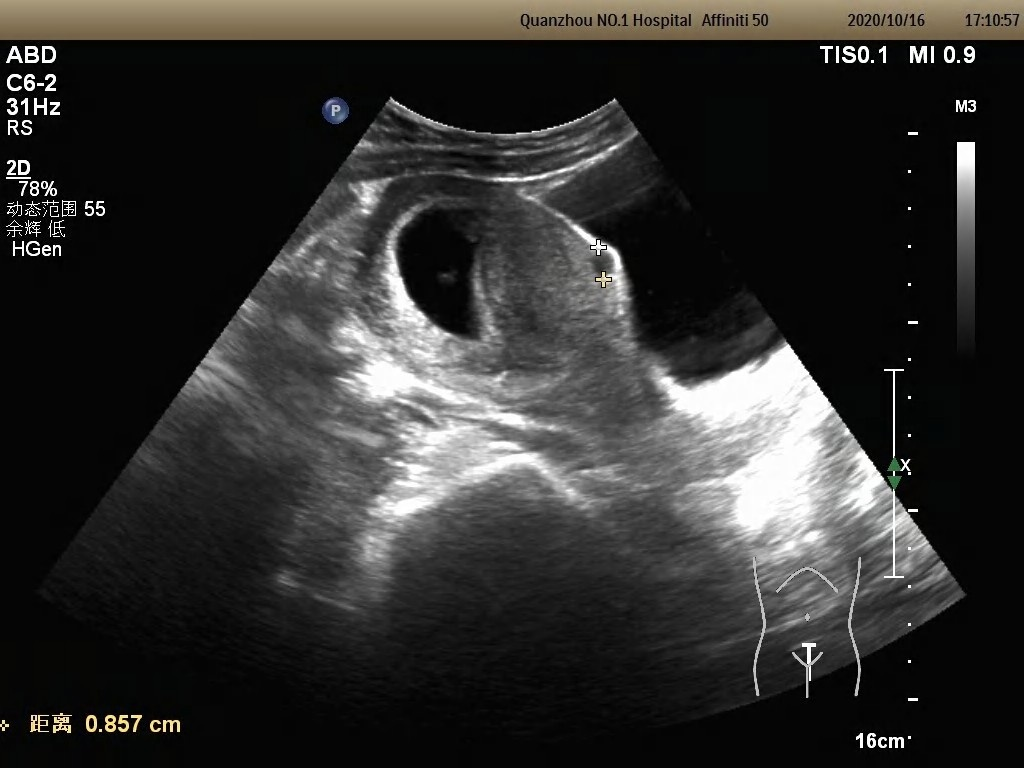肌瘤: (591, 246, 616, 278)
